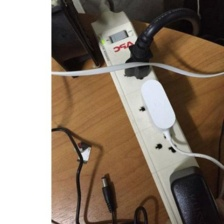three_eye_plug: (86, 7, 224, 223)
